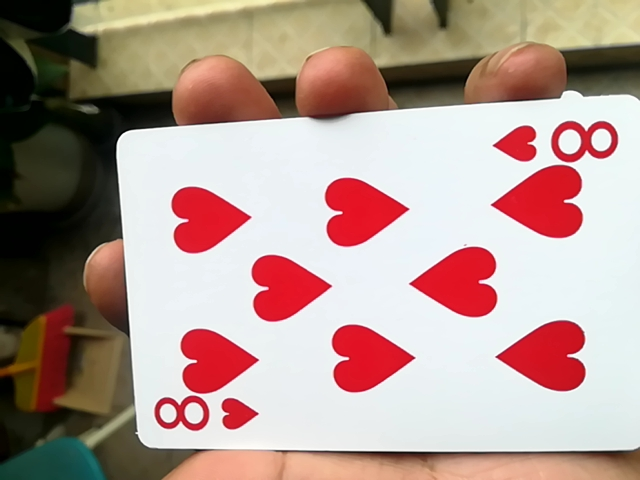hx 8: (110, 108, 632, 466)
